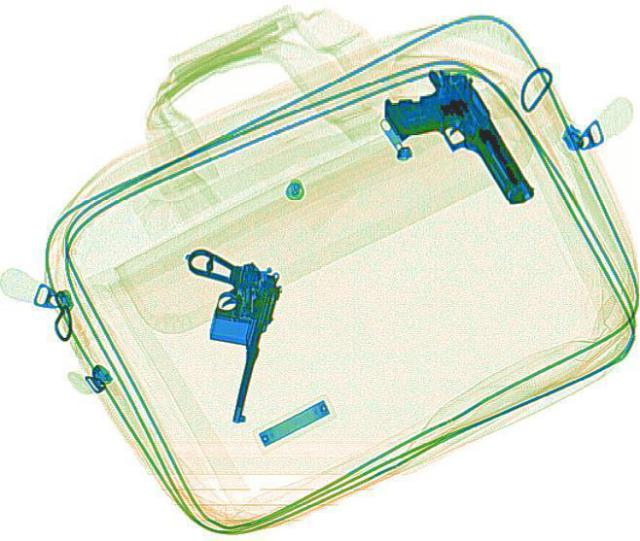Gun: (367, 57, 541, 228), (156, 244, 286, 425)
